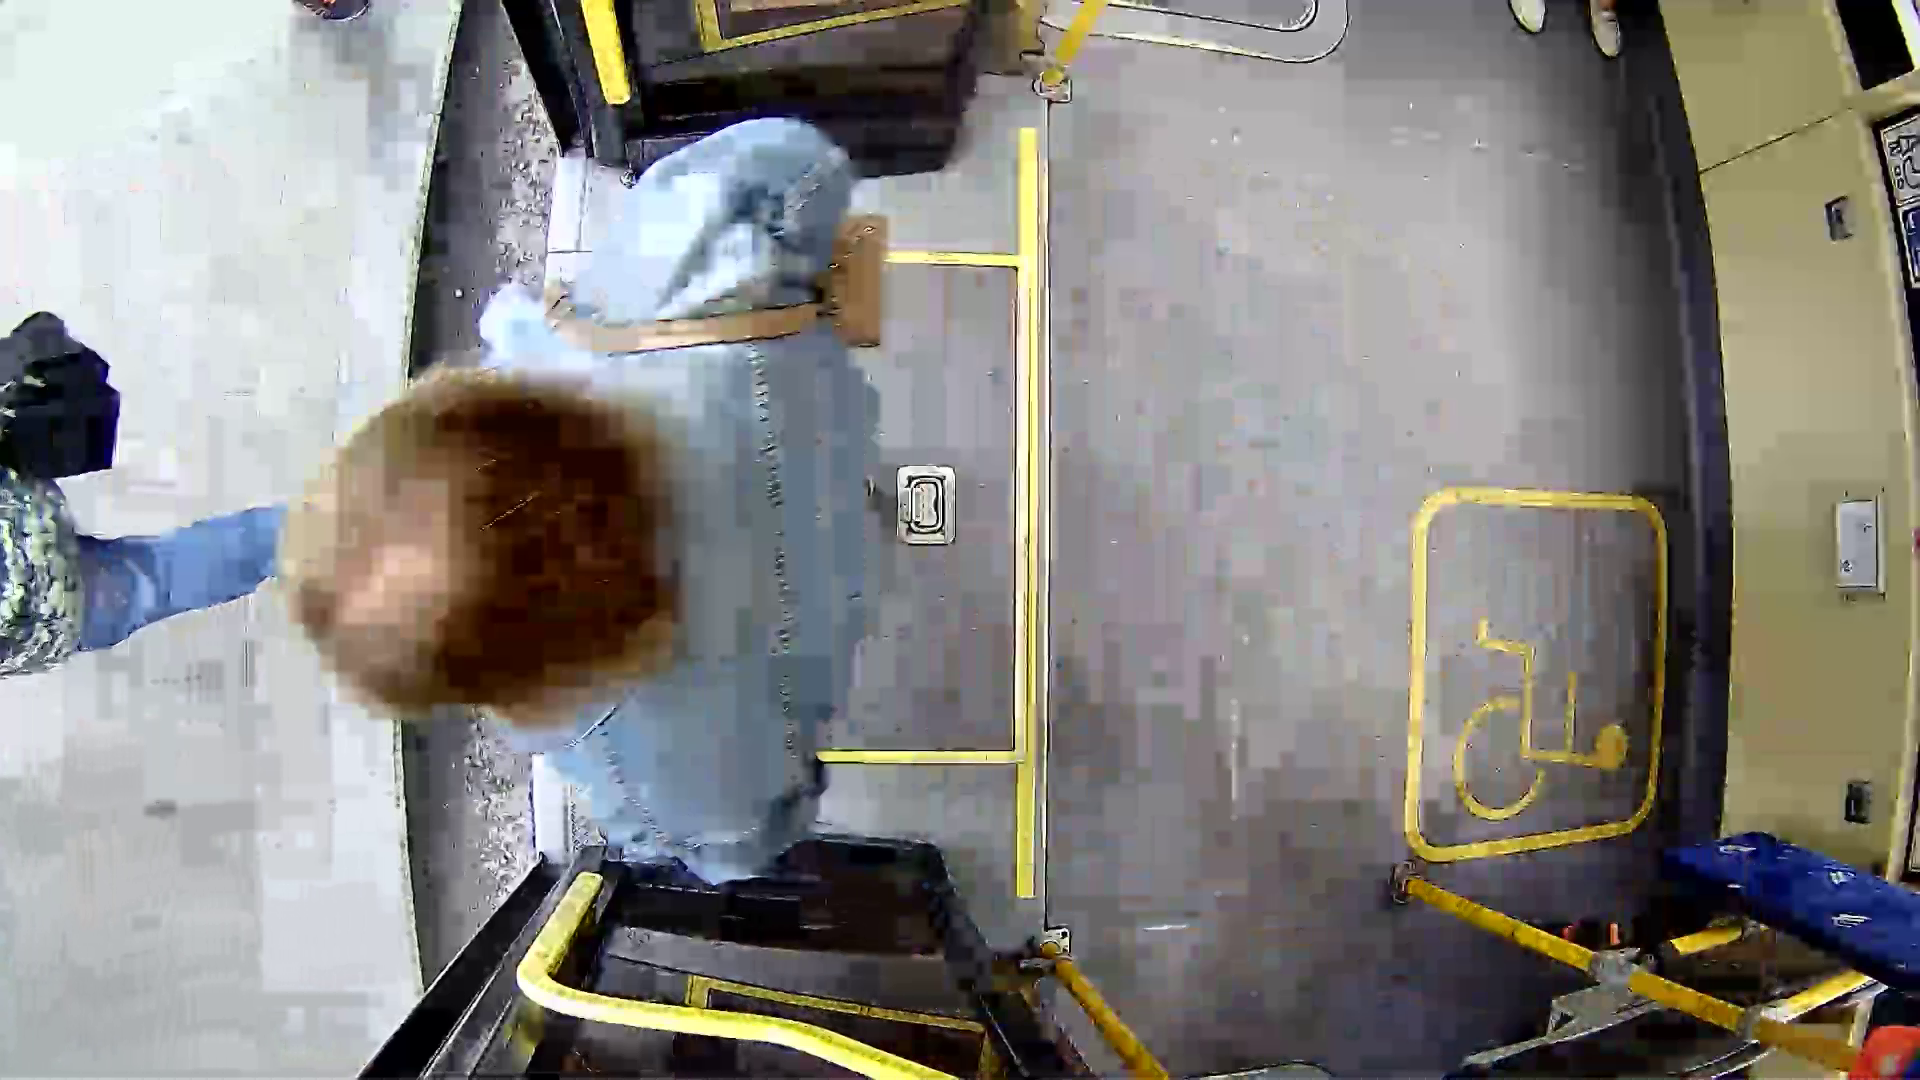person: (306, 153, 1054, 919)
